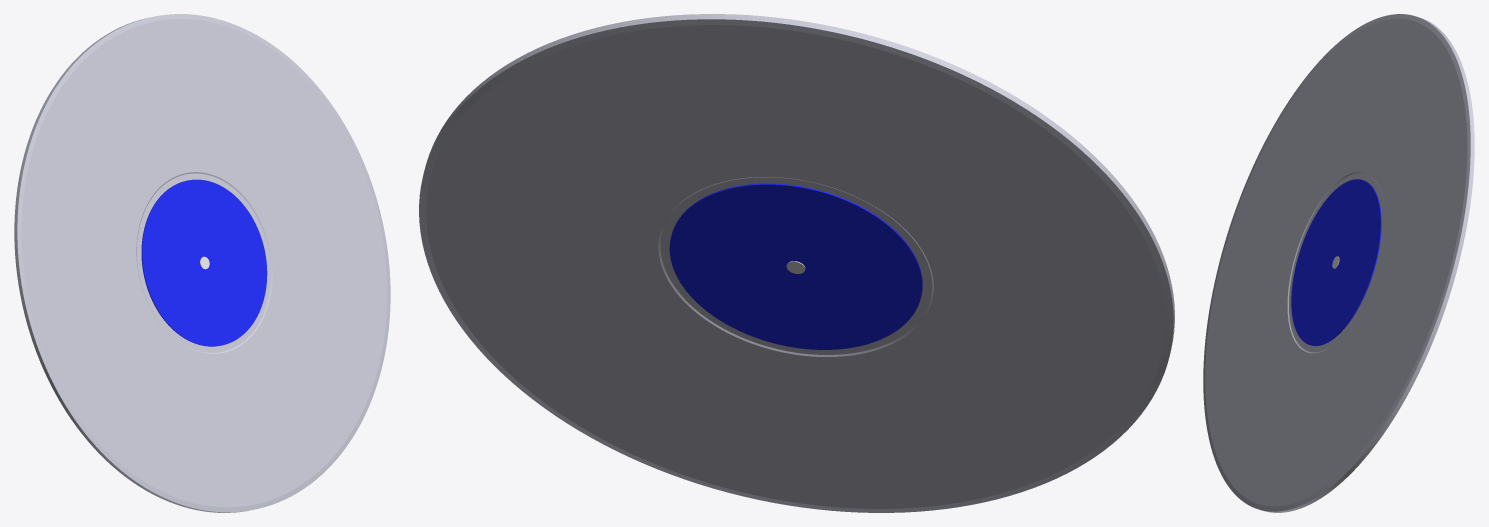
File: vinyl_glass.glb
The picture shows the model from 3 angles, left to right: view 1: azimuth 30°, elevation 25°; view 2: azimuth 150°, elevation 25°; view 3: azimuth 270°, elevation 25°; orthographic projection. The views are drawn at different scales.
Parts seen in each view (by area): view 1: memory_body, memory_label; view 2: memory_body, memory_label; view 3: memory_body, memory_label.
Part boxes in pixels (x1,y1,x2,y2): memory_body: [14, 14, 390, 512]; memory_label: [141, 179, 267, 346]; memory_body: [419, 14, 1174, 512]; memory_label: [669, 183, 922, 349]; memory_body: [1203, 14, 1474, 512]; memory_label: [1291, 179, 1381, 346].
Size of the model in its own units: 8.85 by 8.32 by 4.82.
